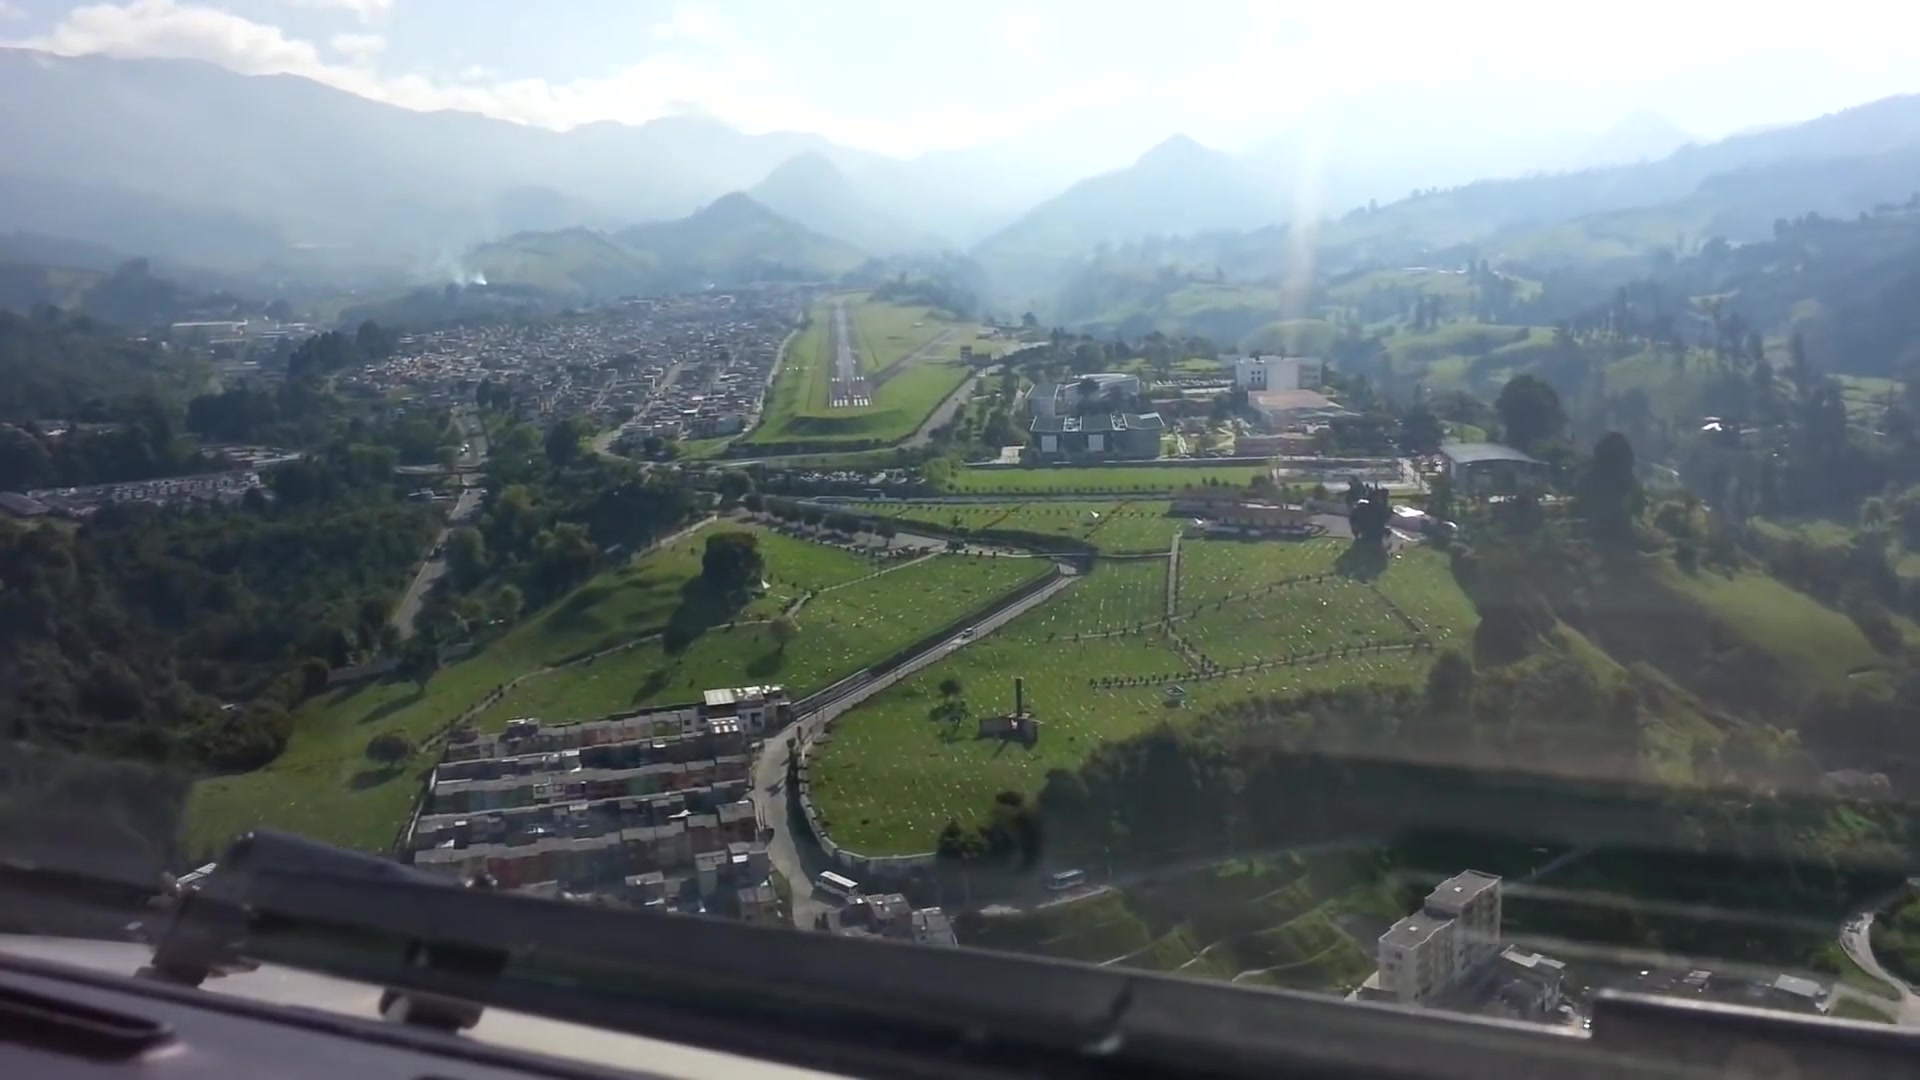entrance: (832, 398, 872, 407)
runway: (827, 301, 874, 410)
